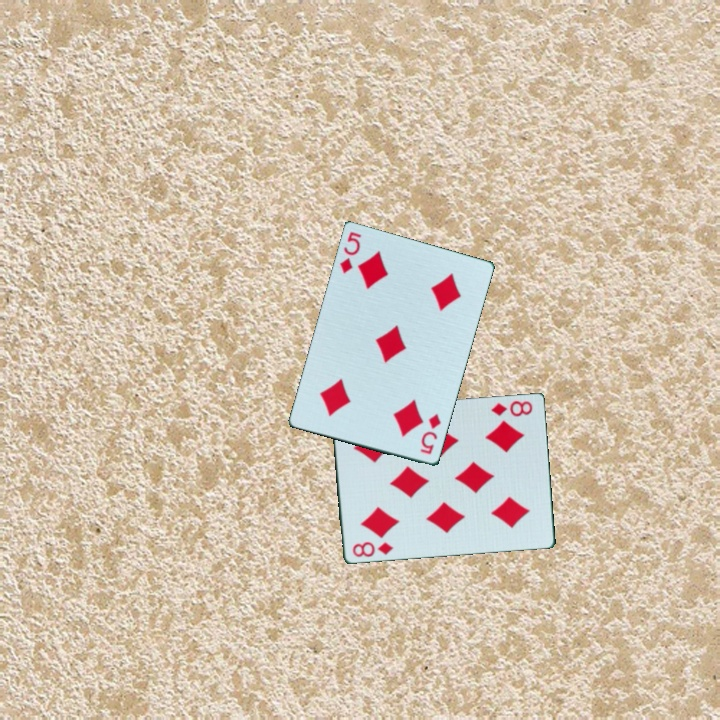5d: (417, 410, 444, 458), (337, 229, 364, 277)
8d: (487, 397, 535, 419), (349, 539, 396, 560)
